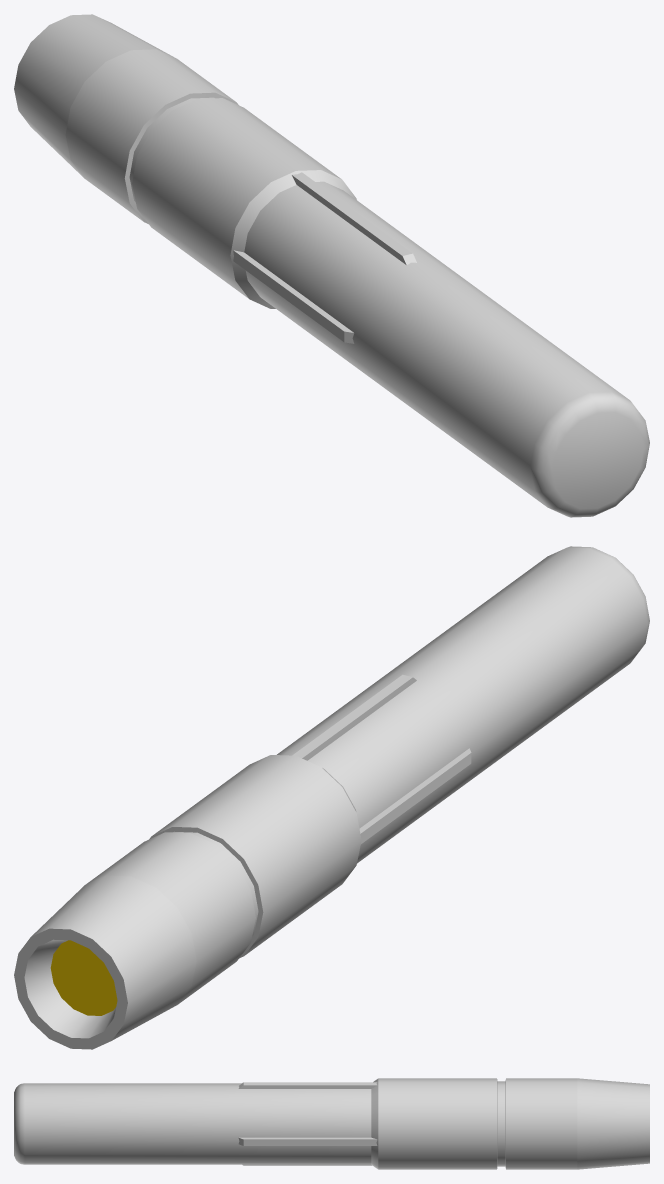
The model's file is VGT-4.fbx.
3 views of the same model, one above another, from view 1: azimuth 30°, elevation 25°; view 2: azimuth 150°, elevation 25°; view 3: azimuth 270°, elevation 25° (orthographic). The views are drawn at different scales.
Parts seen in each view (by area): view 1: VGT-4; view 2: VGT-4; view 3: VGT-4.
Boxes of the visible parts, x1,y1,x2,y2 form: VGT-4: (14,14,649,517); VGT-4: (14,546,649,1049); VGT-4: (14,1078,649,1169).
Size of the model in its own units: 15.29 by 106 by 15.29.
